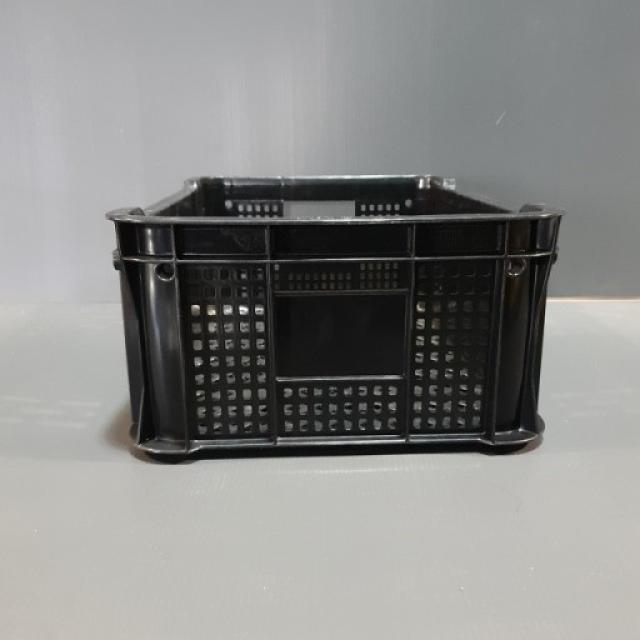basket: (107, 169, 568, 461)
